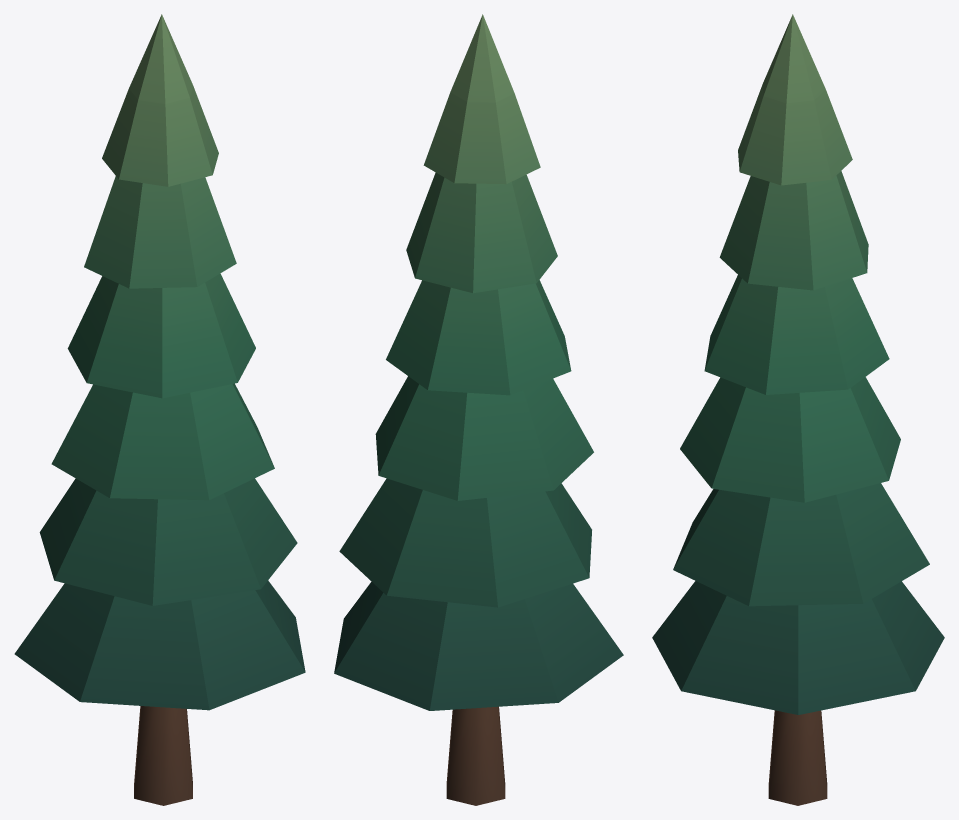
File: tree_pine_c.glb
3 renders of one model, left to right at view 1: azimuth 30°, elevation 25°; view 2: azimuth 150°, elevation 25°; view 3: azimuth 270°, elevation 25°, orthographic.
Parts seen in each view (by area): view 1: tree_pine_c; view 2: tree_pine_c; view 3: tree_pine_c.
Boxes of the visible parts, box(x1,y1,x2,y2) form: tree_pine_c: box(14, 14, 305, 805); tree_pine_c: box(334, 14, 623, 805); tree_pine_c: box(652, 14, 944, 805).
Size of the model in its own units: 13.69 by 41.04 by 14.04.
Materials: 1 (1 with a texture image).
